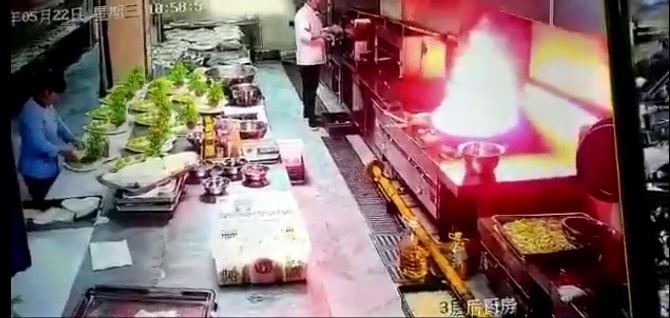fire: (443, 31, 526, 141)
